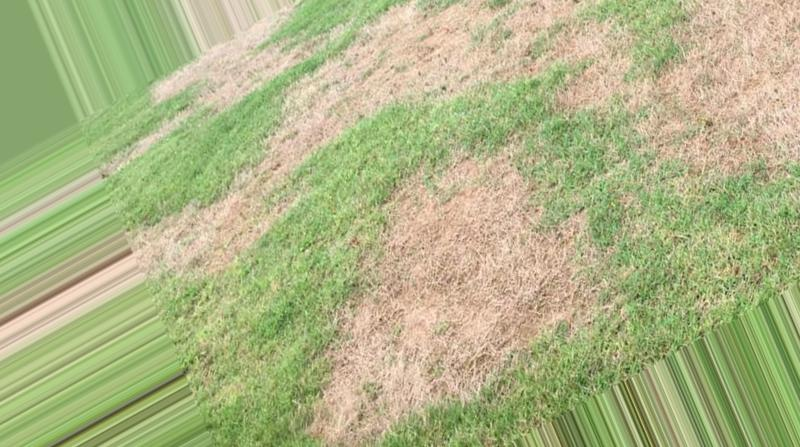patch: (401, 196, 509, 342), (693, 13, 784, 155), (567, 28, 650, 125), (207, 169, 289, 254), (522, 222, 576, 316), (418, 16, 488, 87), (342, 312, 396, 403), (349, 30, 401, 119), (409, 347, 479, 396), (140, 225, 198, 270), (352, 248, 394, 302), (225, 46, 262, 99), (287, 92, 320, 147), (446, 161, 505, 190), (161, 64, 217, 92), (145, 115, 183, 150)
